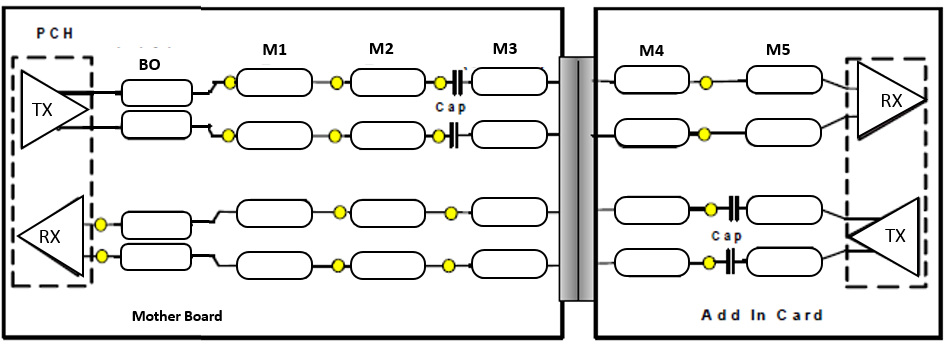circle: (326, 121, 344, 149), (431, 67, 449, 95), (428, 120, 446, 148), (438, 251, 456, 279), (329, 252, 347, 280), (327, 197, 345, 225), (94, 207, 112, 235), (94, 243, 112, 267), (221, 70, 237, 95), (220, 122, 236, 147), (328, 70, 344, 95), (441, 203, 458, 224), (701, 199, 718, 220), (701, 251, 718, 272), (695, 124, 712, 145), (697, 74, 714, 95)
dotted_rectangle: (7, 47, 95, 289), (842, 55, 930, 297)
oval: (116, 75, 198, 108), (116, 109, 198, 142), (234, 66, 316, 99), (235, 118, 317, 151), (346, 65, 428, 98), (346, 117, 428, 150), (468, 65, 550, 98), (467, 116, 549, 149), (609, 62, 691, 95), (744, 62, 826, 95), (610, 115, 692, 148), (741, 115, 823, 148), (116, 207, 198, 240), (115, 240, 197, 273), (232, 196, 314, 229), (234, 247, 316, 280), (348, 196, 430, 229), (349, 247, 431, 280), (468, 194, 550, 227), (469, 245, 551, 278), (611, 193, 693, 226), (609, 245, 691, 278), (743, 192, 825, 225), (745, 244, 827, 277)
rectangle: (556, 50, 602, 308)
triangle: (848, 191, 921, 277), (19, 65, 89, 151), (17, 190, 87, 276), (854, 61, 924, 147)
